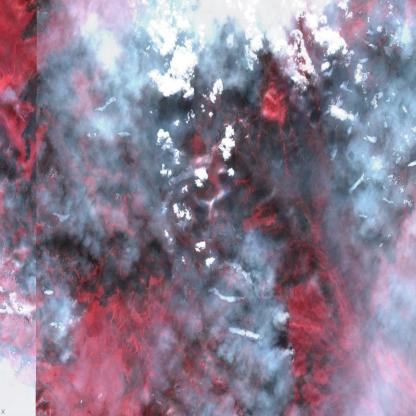fire: (282, 43, 327, 112), (274, 300, 300, 376)
